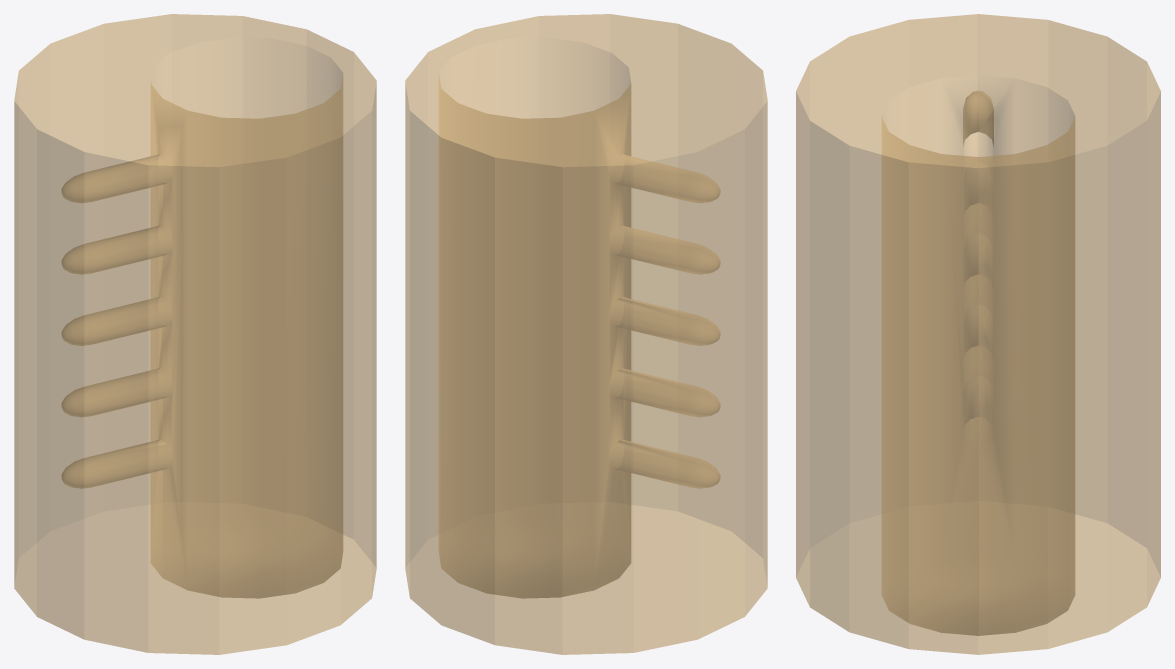
File: wkladka.glb
3 views of the same model, side by side, from view 1: azimuth 30°, elevation 25°; view 2: azimuth 150°, elevation 25°; view 3: azimuth 270°, elevation 25° (orthographic).
Visible parts, largest first — view 1: Cylinder.002; view 2: Cylinder.002; view 3: Cylinder.002.
Part boxes in pixels (left/top/right/bottom): Cylinder.002: left=14, top=14, right=376, bottom=654; Cylinder.002: left=405, top=14, right=767, bottom=654; Cylinder.002: left=796, top=14, right=1160, bottom=654.
Size of the model in its own units: 2 by 2.94 by 2.
